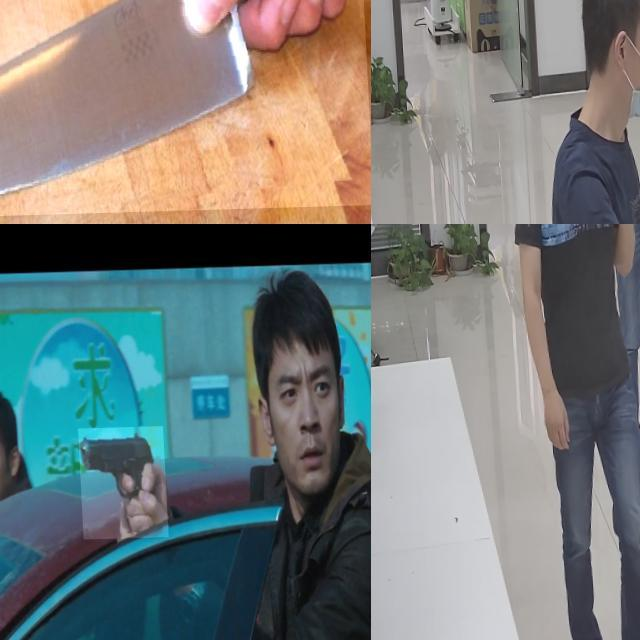-: (0, 0, 368, 221)
gun-knife-thesis - v11 Yolov5 augmented: (76, 428, 164, 541), (599, 224, 633, 280), (0, 437, 18, 517)
